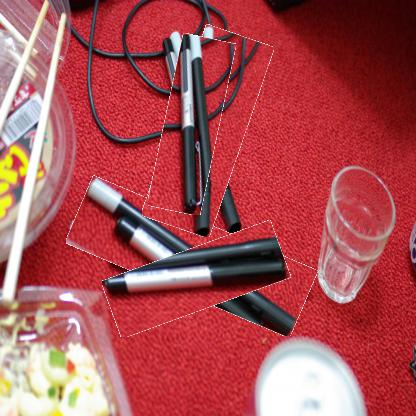Pen: (67, 198, 315, 315), (156, 27, 258, 235), (103, 235, 289, 324), (155, 35, 227, 215)
